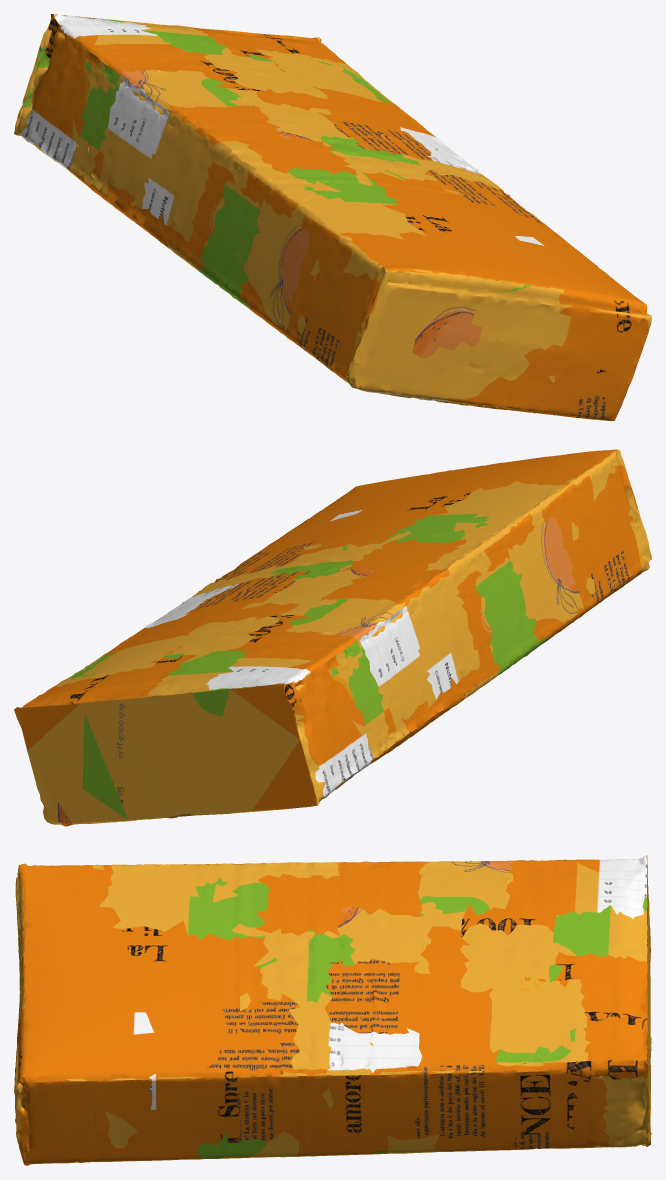
3 views of the same model, one above another, from view 1: azimuth 30°, elevation 25°; view 2: azimuth 150°, elevation 25°; view 3: azimuth 270°, elevation 25° (orthographic). The views are drawn at different scales.
Bounding box in the file's own units: 0.5213 × 0.356 × 1.
